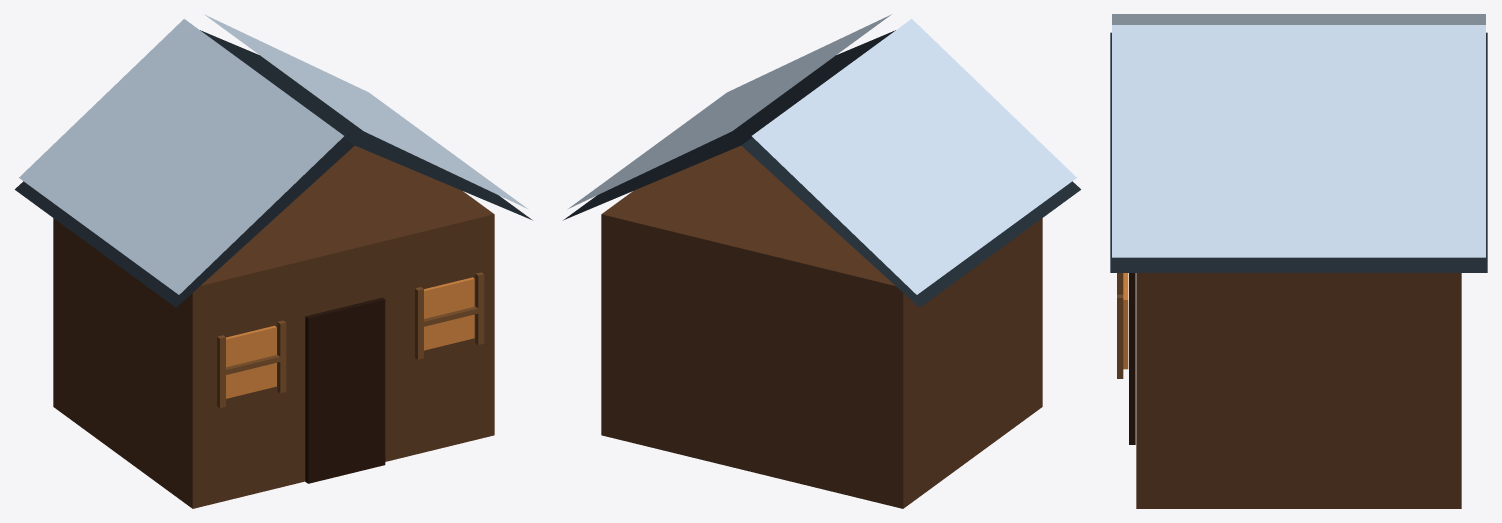
The model's file is snow-cabin.obj.
3 renders of one model, left to right at view 1: azimuth 30°, elevation 25°; view 2: azimuth 150°, elevation 25°; view 3: azimuth 270°, elevation 25°, orthographic. The views are drawn at different scales.
Bounding box in the file's own units: 2.96 × 2.74 × 2.32.
